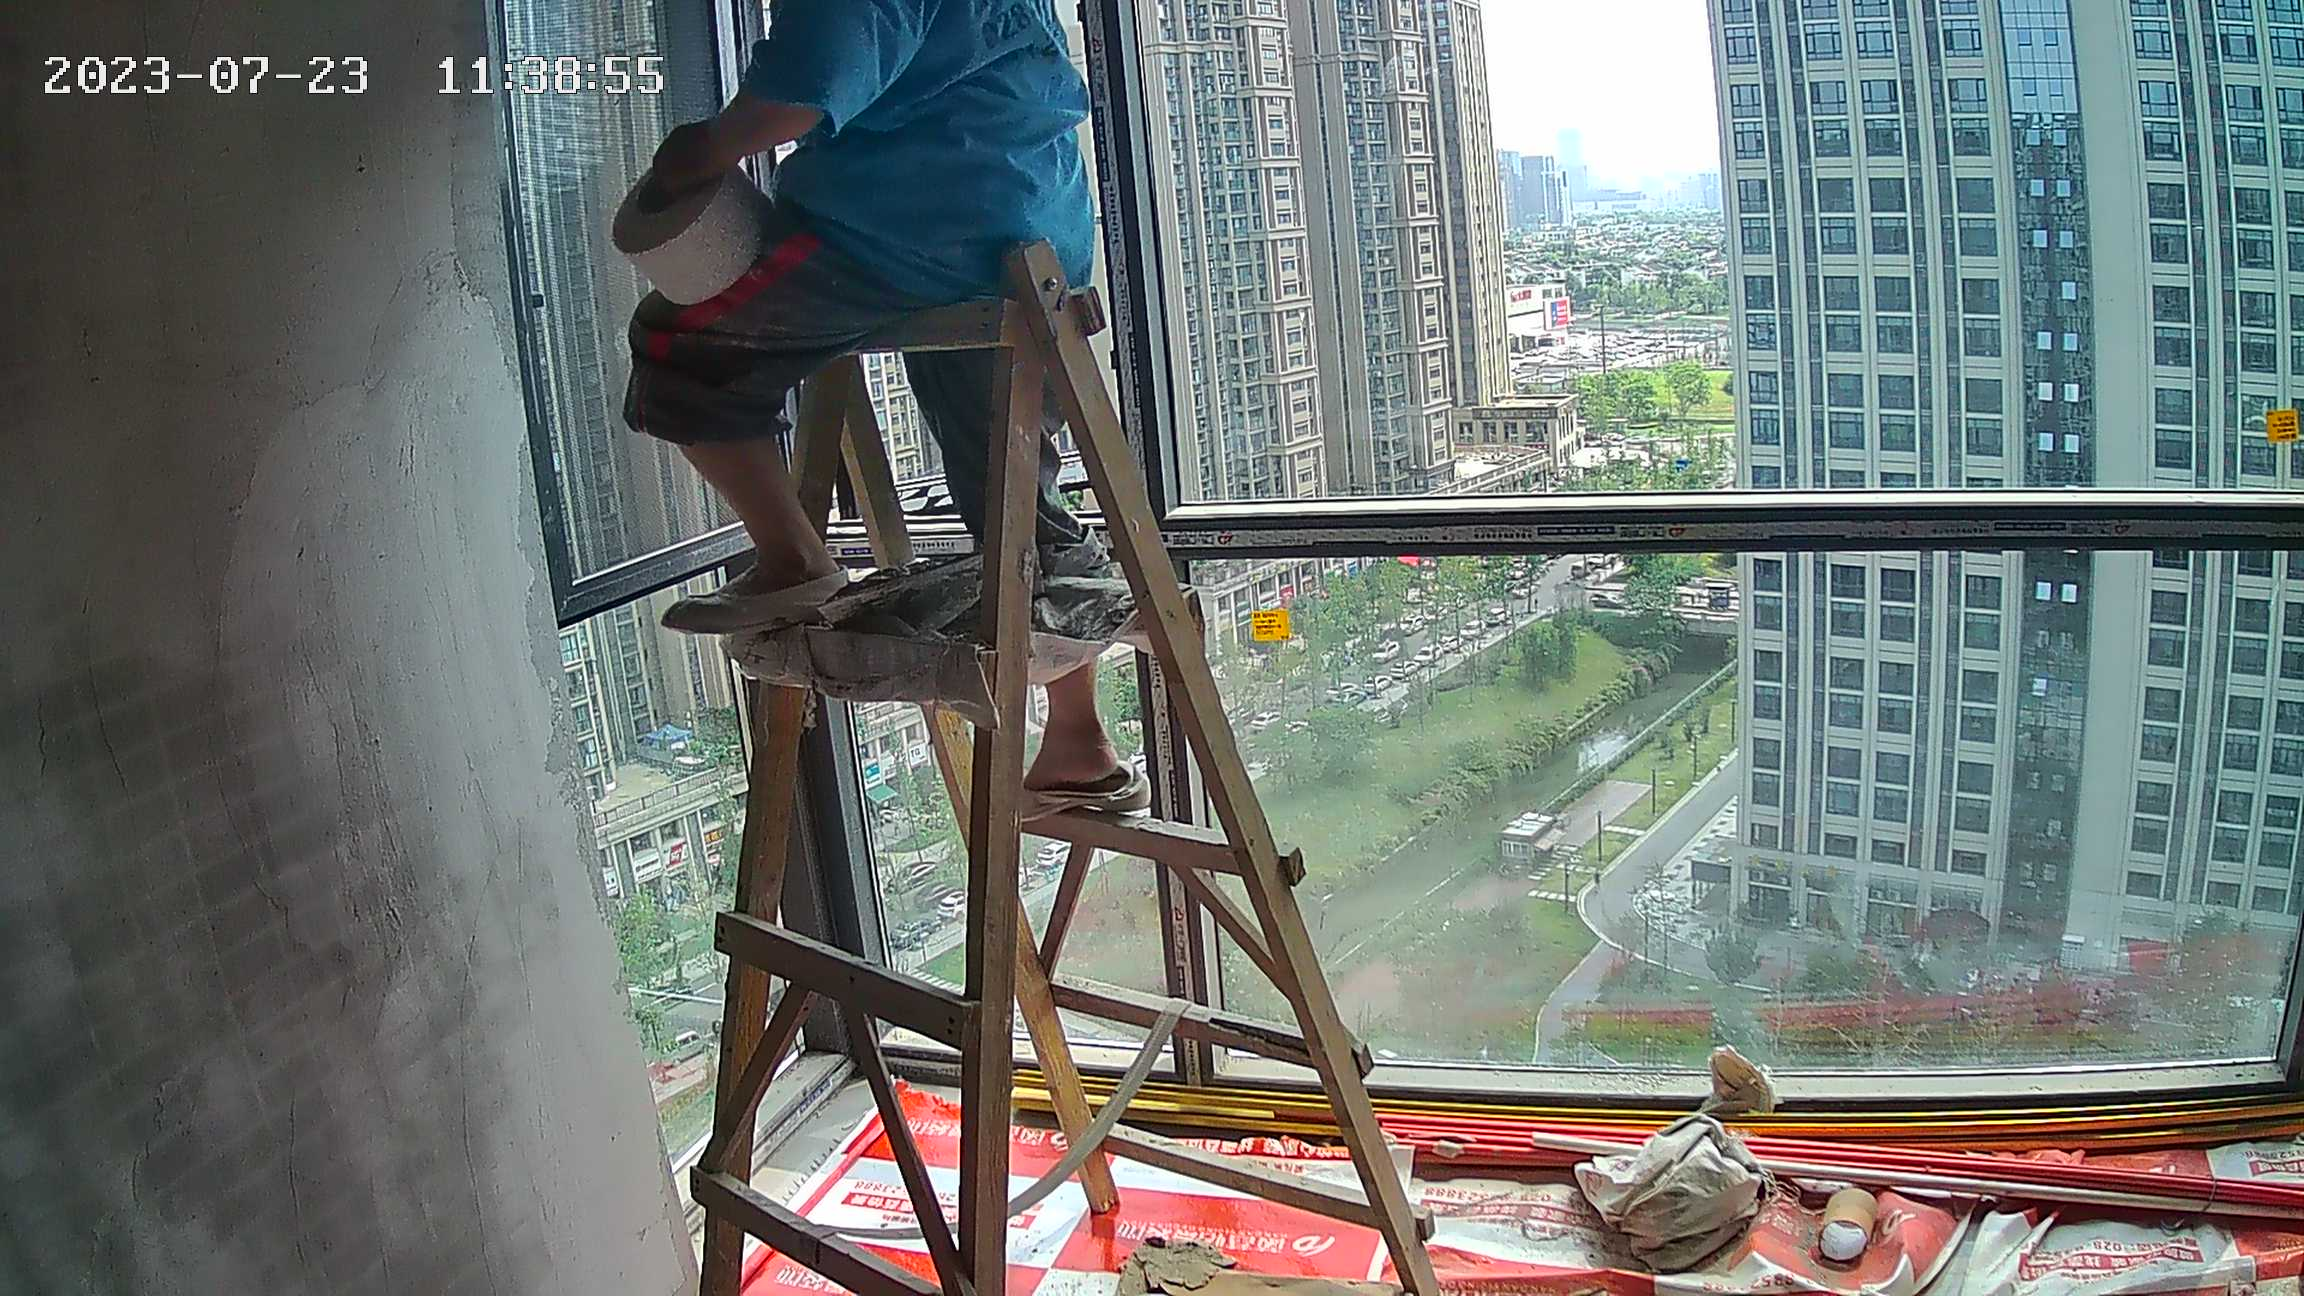people: (596, 12, 1174, 815)
window: (481, 8, 2304, 1073)
